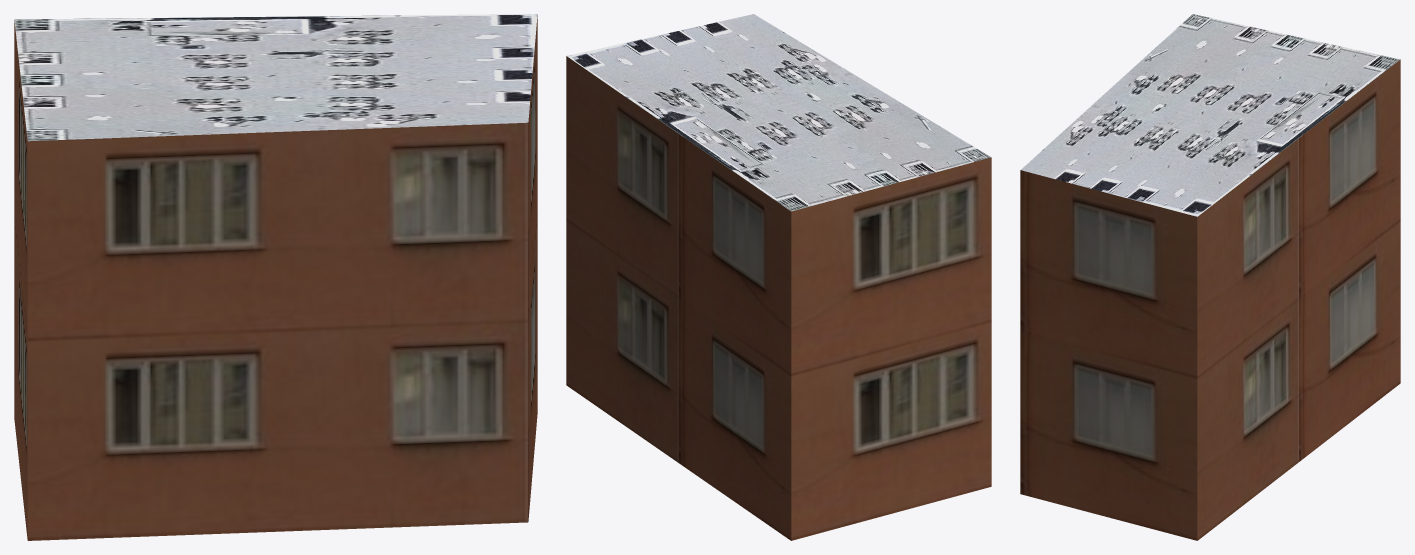
The model's file is ResTex__3366.fbx.
3 views of the same model, side by side, from view 1: azimuth 30°, elevation 25°; view 2: azimuth 150°, elevation 25°; view 3: azimuth 270°, elevation 25° (orthographic). The views are drawn at different scales.
Visible parts, largest first — view 1: CityEngineMaterial_20_m, CityEngineMaterial_2_m; view 2: CityEngineMaterial_20_m, CityEngineMaterial_2_m; view 3: CityEngineMaterial_20_m, CityEngineMaterial_2_m.
Part boxes in pixels (left/top/right/bottom): CityEngineMaterial_20_m: left=14, top=15, right=537, bottom=540; CityEngineMaterial_2_m: left=14, top=14, right=537, bottom=141; CityEngineMaterial_20_m: left=566, top=56, right=991, bottom=540; CityEngineMaterial_2_m: left=567, top=14, right=990, bottom=211; CityEngineMaterial_20_m: left=1020, top=59, right=1400, bottom=540; CityEngineMaterial_2_m: left=1021, top=14, right=1399, bottom=216.
Bounding box in the file's own units: 8.06 × 6 × 6.38.
2 materials, 2 textured.
